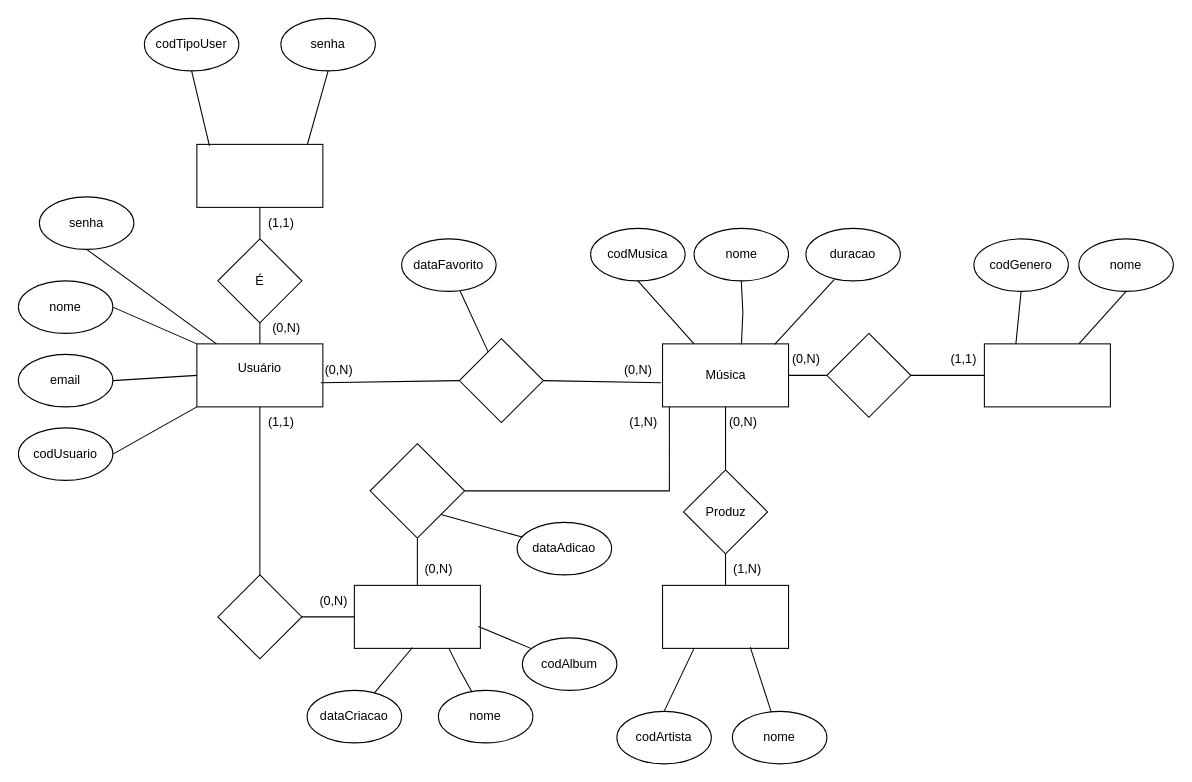
The diagram is 1192 pixels wide and 782 high, and some of its shapes have lost their labels. The centre of each missing label's shape, as x and y in pixels:
Album: the point at 416,616
AlbumMusica: the point at 417,490
Artista: the point at 725,616
Cria: the point at 259,616
Favoritos: the point at 500,380
Gênero: the point at 1046,375
Pertence a: the point at 868,374
TiposUsuario: the point at 259,175
